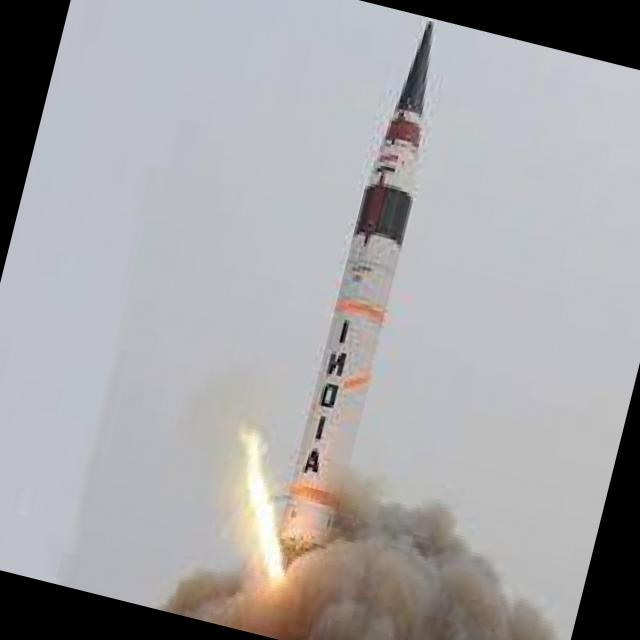rocket: (270, 15, 472, 582)
